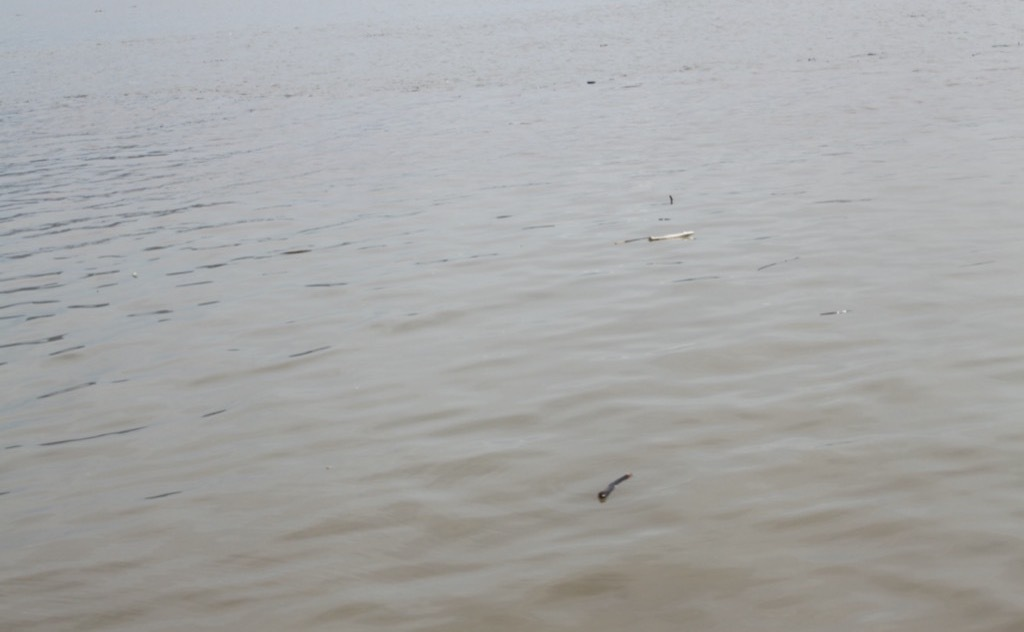organic: (589, 457, 639, 509), (581, 74, 604, 93)
plastic: (626, 215, 712, 259)
